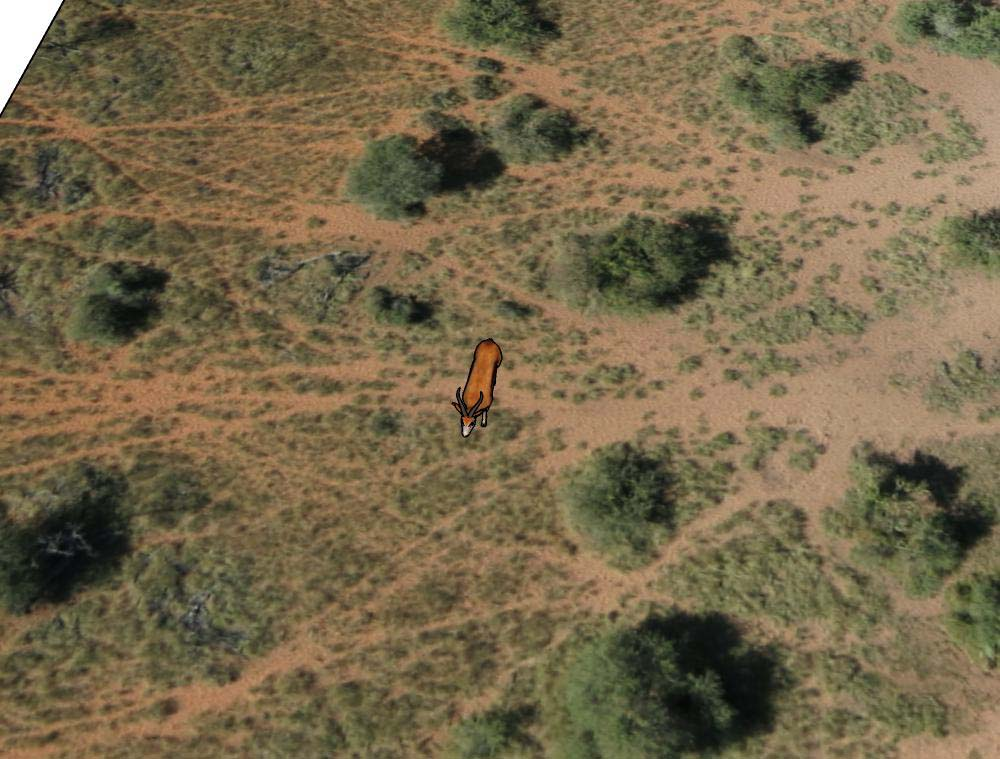springbok: (451, 337, 504, 438)
